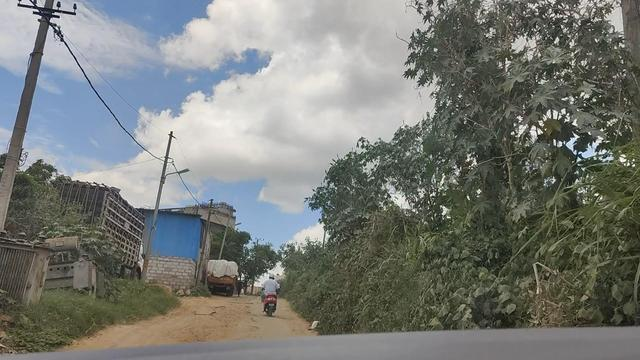HMV: (204, 258, 241, 302)
UnsurfacedRoad: (169, 304, 259, 335)
